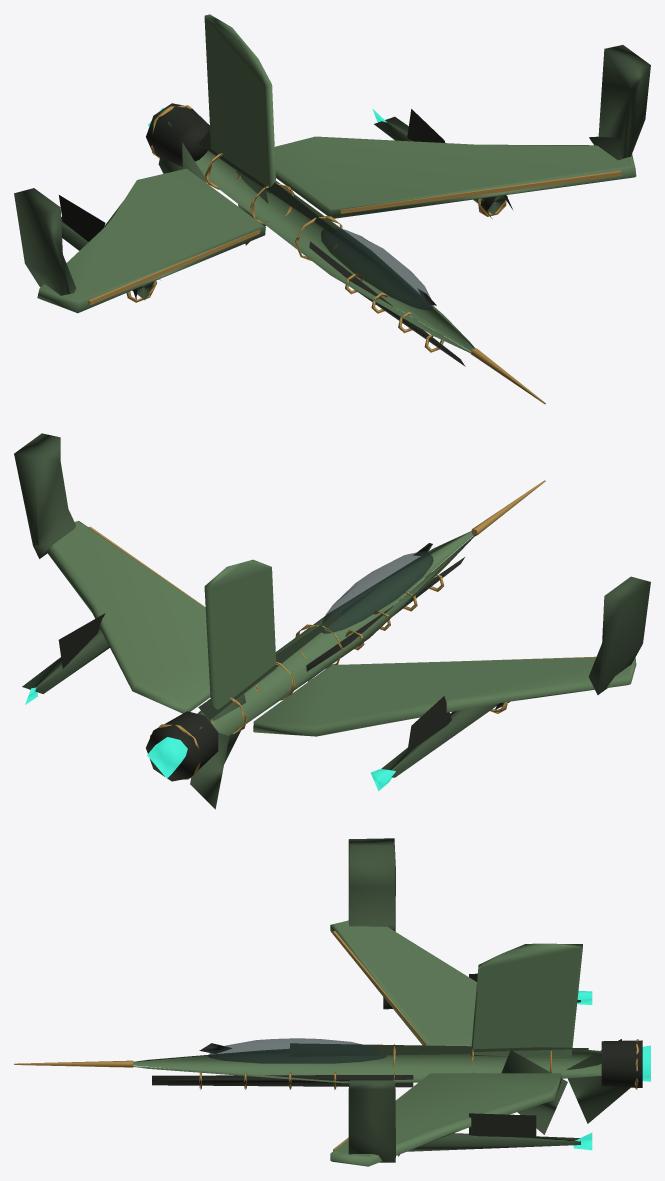
Rendered from warbird-light-lod2.glb.
The picture shows the model from 3 angles, top to bottom: view 1: azimuth 30°, elevation 25°; view 2: azimuth 150°, elevation 25°; view 3: azimuth 270°, elevation 25°; orthographic projection. The views are drawn at different scales.
Visible parts, largest first — view 1: object 1; view 2: object 1, object 2; view 3: object 1, object 2.
Boxes of the visible parts, left/top/right/bottom form: object 1: left=14, top=14, right=650, bottom=404; object 1: left=14, top=433, right=650, bottom=809; object 2: left=25, top=687, right=395, bottom=791; object 1: left=14, top=838, right=642, bottom=1166; object 2: left=573, top=991, right=650, bottom=1150.
Bounding box in the file's own units: 15.89 × 5.51 × 17.08.
